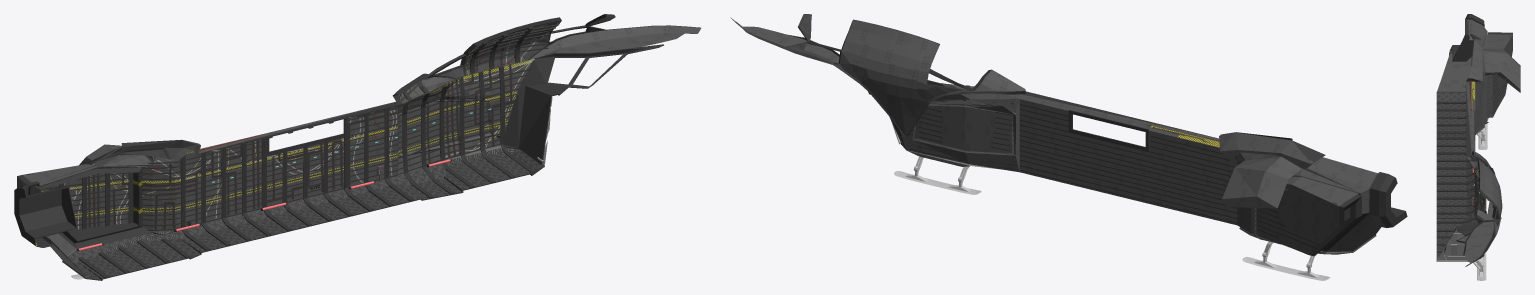
Rendered from Internal_Hull.fbx.
The picture shows the model from 3 angles, left to right: view 1: azimuth 30°, elevation 25°; view 2: azimuth 150°, elevation 25°; view 3: azimuth 270°, elevation 25°; orthographic projection. The views are drawn at different scales.
Visible parts, largest first — view 1: MainHull_01, HullFrame_01, UpperDeck; view 2: MainHull_01, UpperDeck, HullFrame_01, LandingGear_01; view 3: MainHull_01, HullFrame_01, UpperDeck, FrontPanel_01, LandingGear_01.
Boxes of the visible parts, x1,y1,x2,y2 form: MainHull_01: (14, 44, 663, 280); HullFrame_01: (27, 24, 558, 277); UpperDeck: (392, 14, 701, 101); MainHull_01: (789, 35, 1407, 256); UpperDeck: (730, 14, 1025, 137); HullFrame_01: (868, 83, 1336, 248); LandingGear_01: (894, 156, 1330, 280); MainHull_01: (1436, 14, 1520, 258); HullFrame_01: (1436, 35, 1511, 260); UpperDeck: (1465, 150, 1502, 266); FrontPanel_01: (1436, 228, 1468, 261); LandingGear_01: (1473, 121, 1487, 280).
Size of the model in its own units: 33235 by 6882 by 4733.
